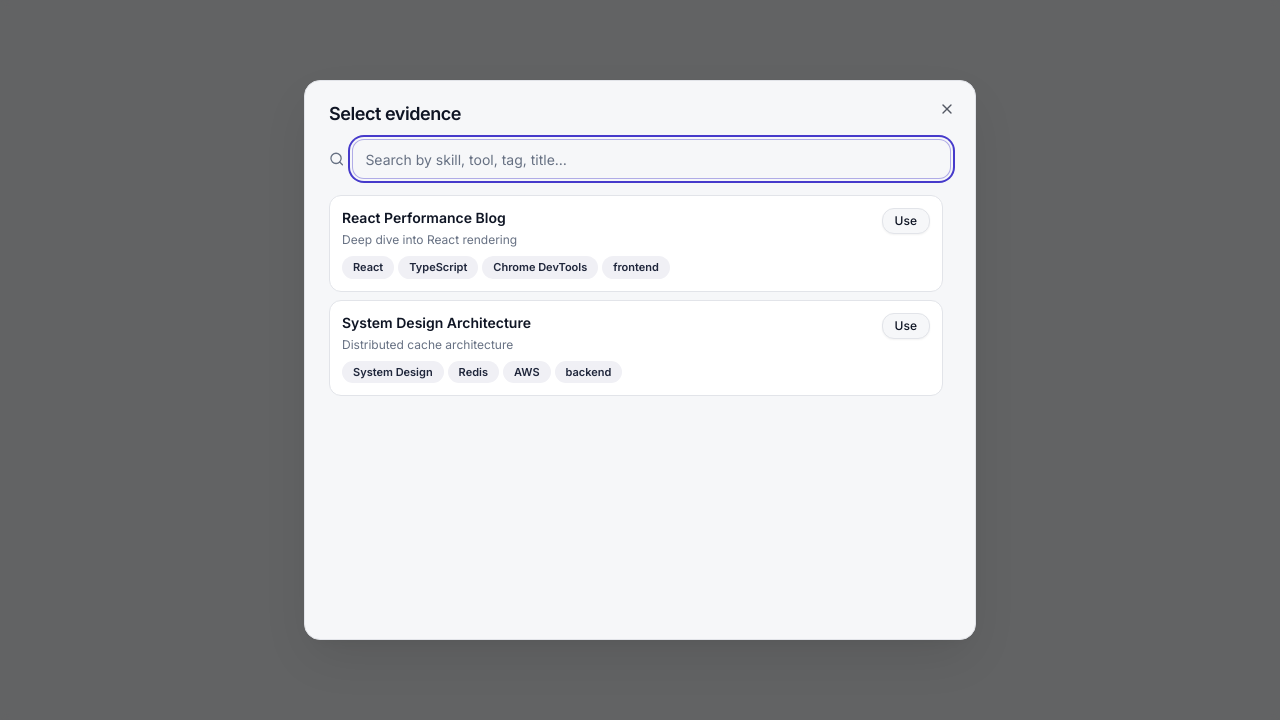
Test: EvidencePicker › shows empty state when search returns no matches
Type "zzznomatch" into the field with placeholder "Search by skill, tool, tag, title…".
click(652, 159); type("zzznomatch")  # box [352, 139, 951, 179]
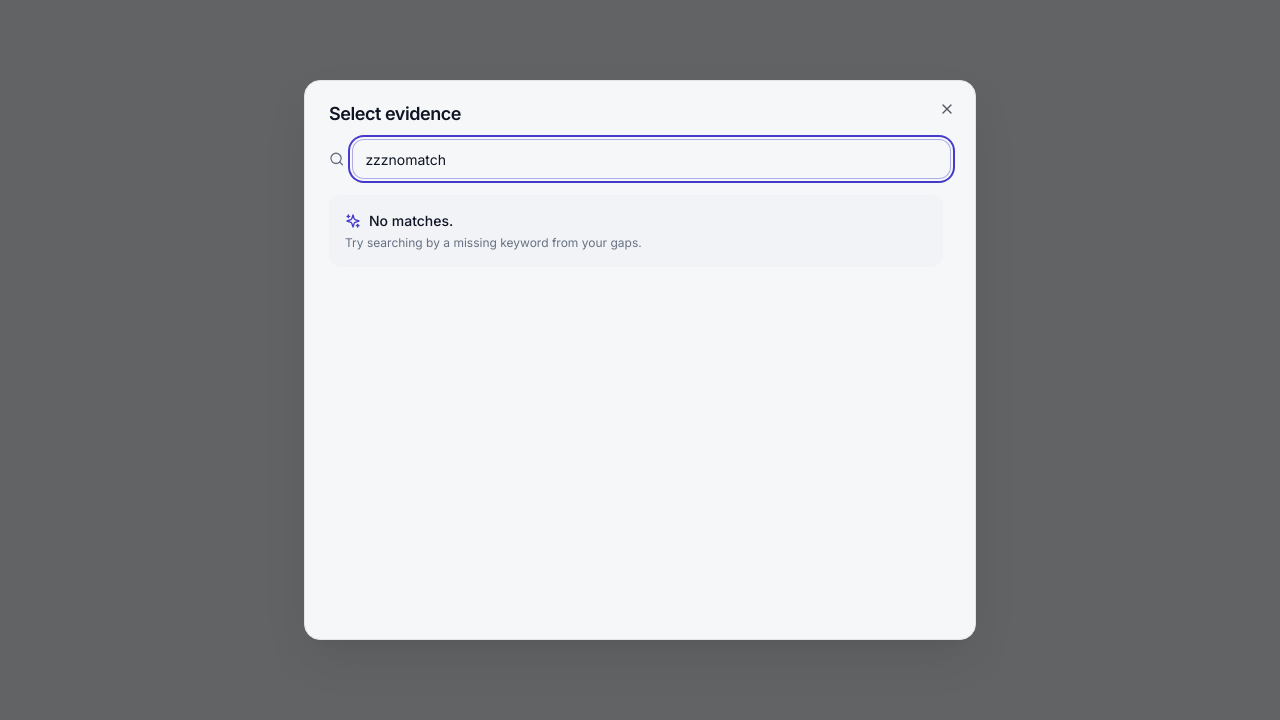
expect the text "No matches." is shown: met, box [345, 212, 453, 229]
expect the text "Try searching by a missing keyword from your gaps." is shown: met, box [345, 235, 642, 250]
